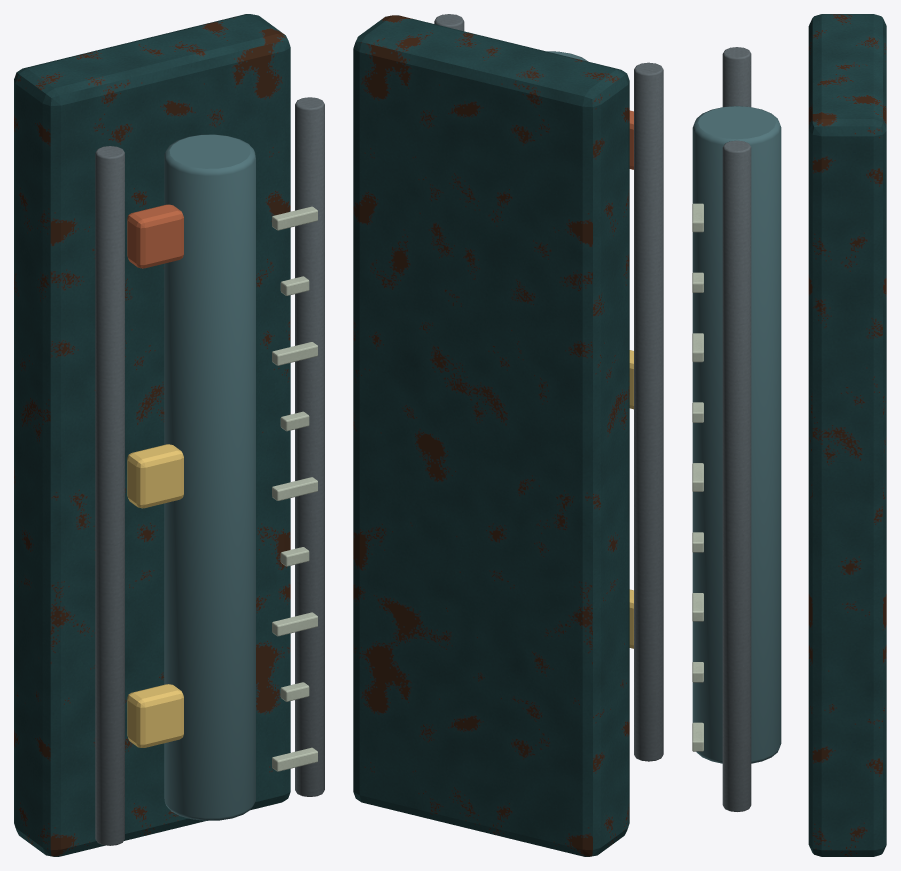
Rendered from IslandTideIndicator.fbx.
3 views of the same model, side by side, from view 1: azimuth 30°, elevation 25°; view 2: azimuth 150°, elevation 25°; view 3: azimuth 270°, elevation 25° (orthographic). The views are drawn at different scales.
Visible parts, largest first — view 1: IslandOxide_Surface.001__UnityExport, IslandGlass_Surface__UnityExport, IslandMetal_Surface.001__UnityExport, IslandSafety_Surface.001__UnityExport, IslandClinic_Surface__UnityExport, IslandSignal_Surface__UnityExport; view 2: IslandOxide_Surface.001__UnityExport, IslandMetal_Surface.001__UnityExport; view 3: IslandOxide_Surface.001__UnityExport, IslandGlass_Surface__UnityExport, IslandMetal_Surface.001__UnityExport, IslandClinic_Surface__UnityExport.
Part boxes in pixels (box(x1,y1,x2,y2)): IslandOxide_Surface.001__UnityExport: box(14, 14, 290, 856); IslandGlass_Surface__UnityExport: box(164, 134, 255, 820); IslandMetal_Surface.001__UnityExport: box(95, 97, 324, 845); IslandSafety_Surface.001__UnityExport: box(127, 444, 183, 747); IslandClinic_Surface__UnityExport: box(272, 206, 317, 771); IslandSignal_Surface__UnityExport: box(127, 204, 183, 268); IslandOxide_Surface.001__UnityExport: box(353, 15, 629, 856); IslandMetal_Surface.001__UnityExport: box(434, 14, 663, 761); IslandOxide_Surface.001__UnityExport: box(808, 14, 886, 856); IslandGlass_Surface__UnityExport: box(692, 106, 781, 763); IslandMetal_Surface.001__UnityExport: box(722, 47, 751, 811); IslandClinic_Surface__UnityExport: box(692, 203, 703, 751).
Bounding box in the file's own units: 0.42 × 1.25 × 0.299.
